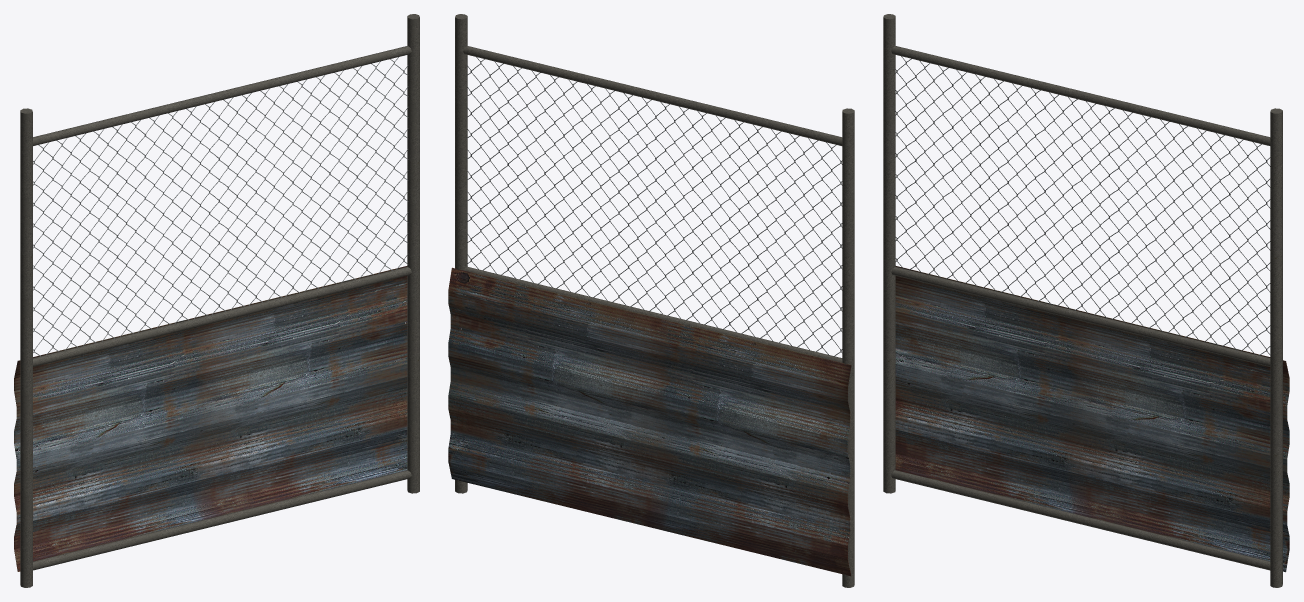
The model's file is metallic fence 3.FBX.
3 renders of one model, left to right at view 1: azimuth 30°, elevation 25°; view 2: azimuth 150°, elevation 25°; view 3: azimuth 330°, elevation 25°, orthographic.
Parts seen in each view (by area): view 1: Metallic_fence_dr, Metallic_fence_dr_grid; view 2: Metallic_fence_dr, Metallic_fence_dr_grid; view 3: Metallic_fence_dr, Metallic_fence_dr_grid.
Part boxes in pixels (box(x1,y1,x2,y2)): Metallic_fence_dr: box(14, 14, 419, 587); Metallic_fence_dr_grid: box(33, 57, 408, 356); Metallic_fence_dr: box(448, 14, 854, 587); Metallic_fence_dr_grid: box(467, 57, 842, 356); Metallic_fence_dr: box(883, 14, 1289, 587); Metallic_fence_dr_grid: box(895, 56, 1270, 355).
Bounding box in the file's own units: 185 × 7.92 × 210.
